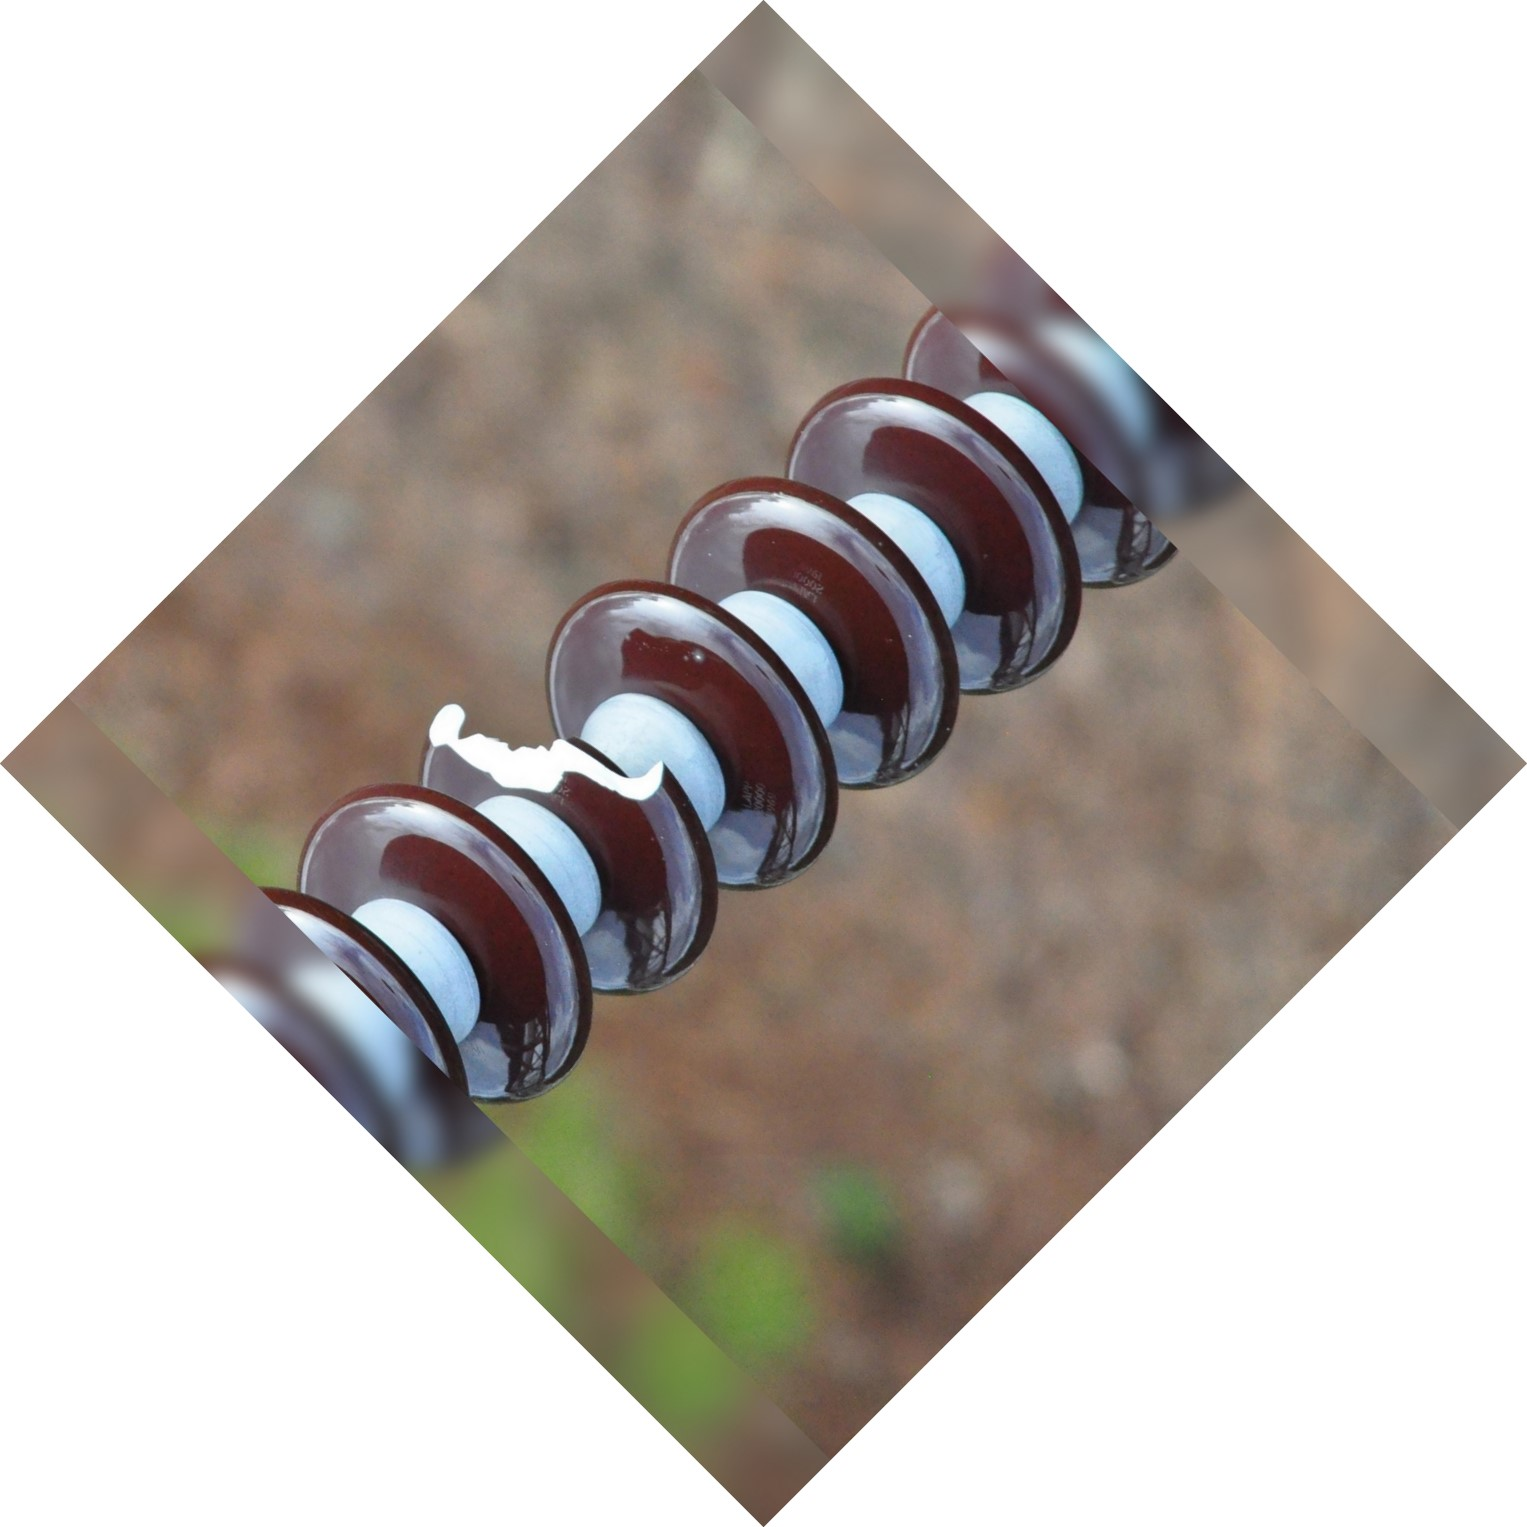insulator breakage: (403, 670, 731, 993)
